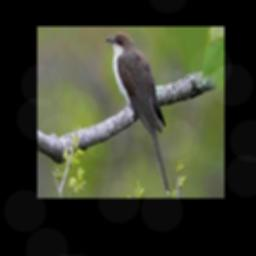Cuckoo: (106, 32, 170, 194)
